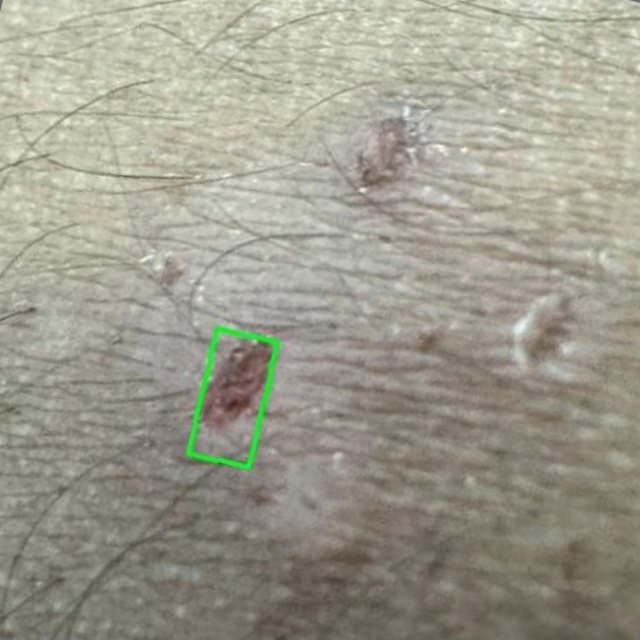Scabies: (188, 329, 278, 468)
